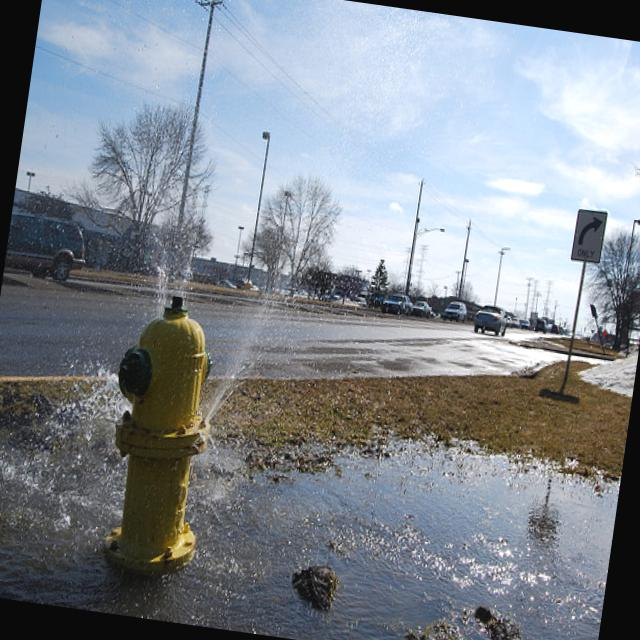Vehicle: (3, 209, 93, 287), (472, 303, 510, 338), (379, 290, 416, 318), (440, 298, 470, 324), (412, 300, 432, 319), (215, 278, 238, 290), (550, 324, 569, 338), (321, 292, 341, 304), (535, 319, 548, 335), (520, 318, 530, 332), (504, 316, 514, 328), (510, 316, 520, 328), (358, 297, 368, 307), (250, 284, 261, 292)
